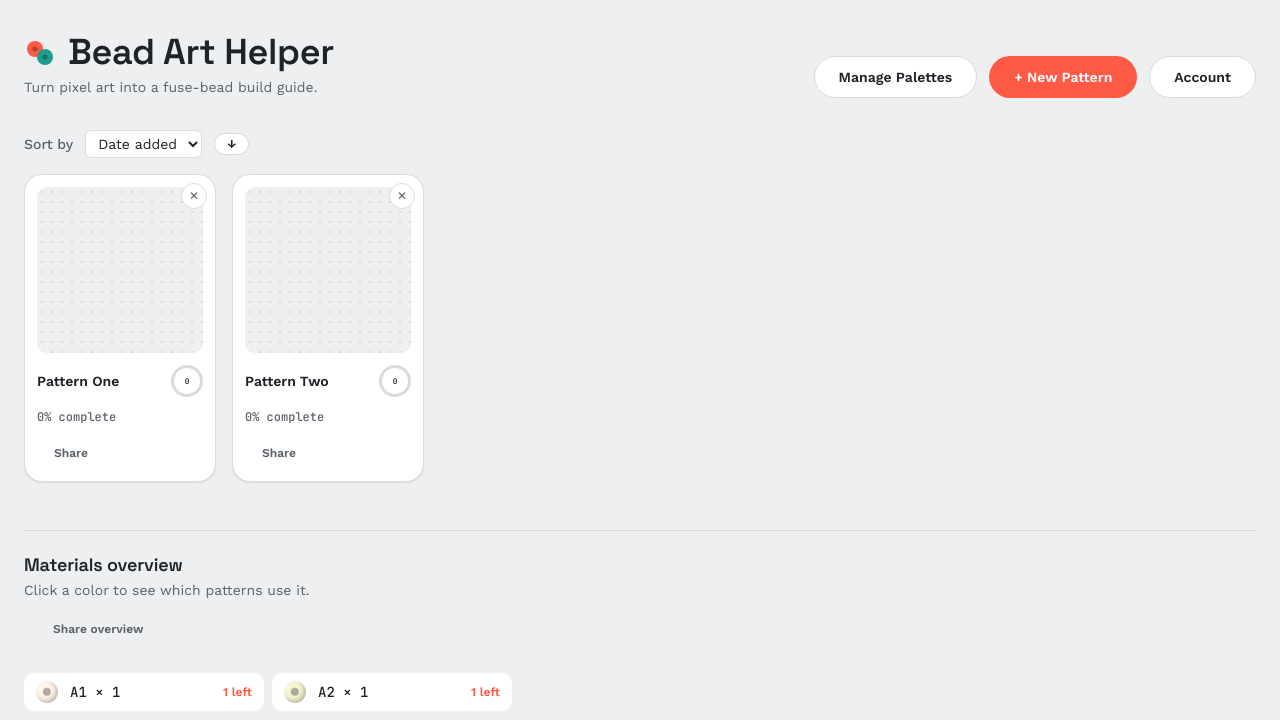
it: HomeScreen › filters the pattern grid to patterns using a clicked material color
Expected: the text "Pattern One" is shown, [37,373,119,389]
Expected: the text "Pattern Two" is shown, [245,373,329,389]
Click the text "A1 × 1". click: (95, 692)
box: [70,683,120,701]
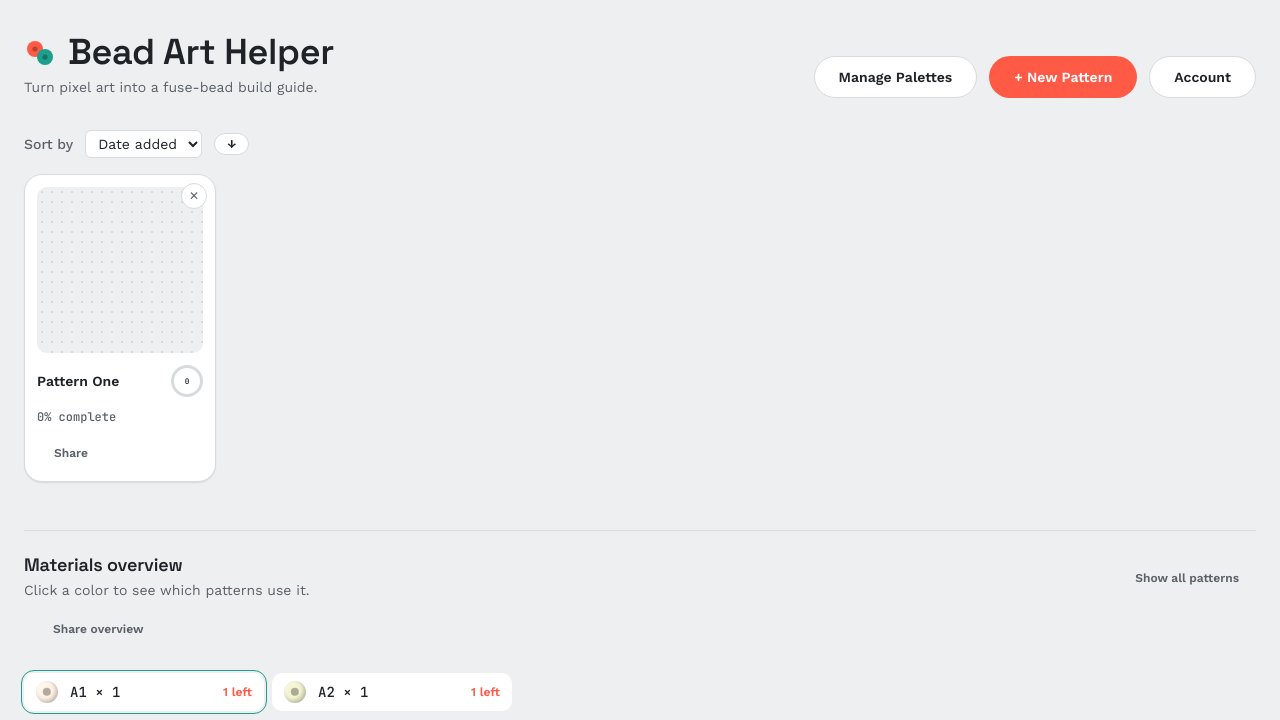
Expected: the text "Pattern One" is shown, [37,373,119,389]
Result: the button "Pattern Two" is gone
